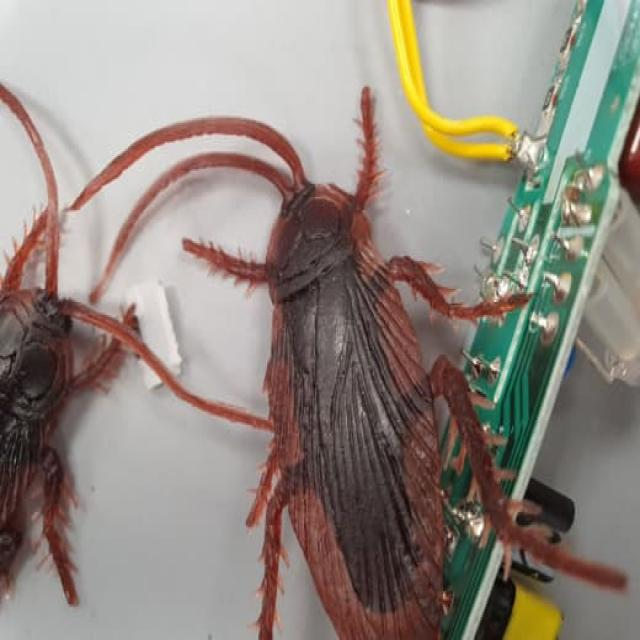Cockroach: (56, 75, 640, 628), (0, 56, 138, 640)
